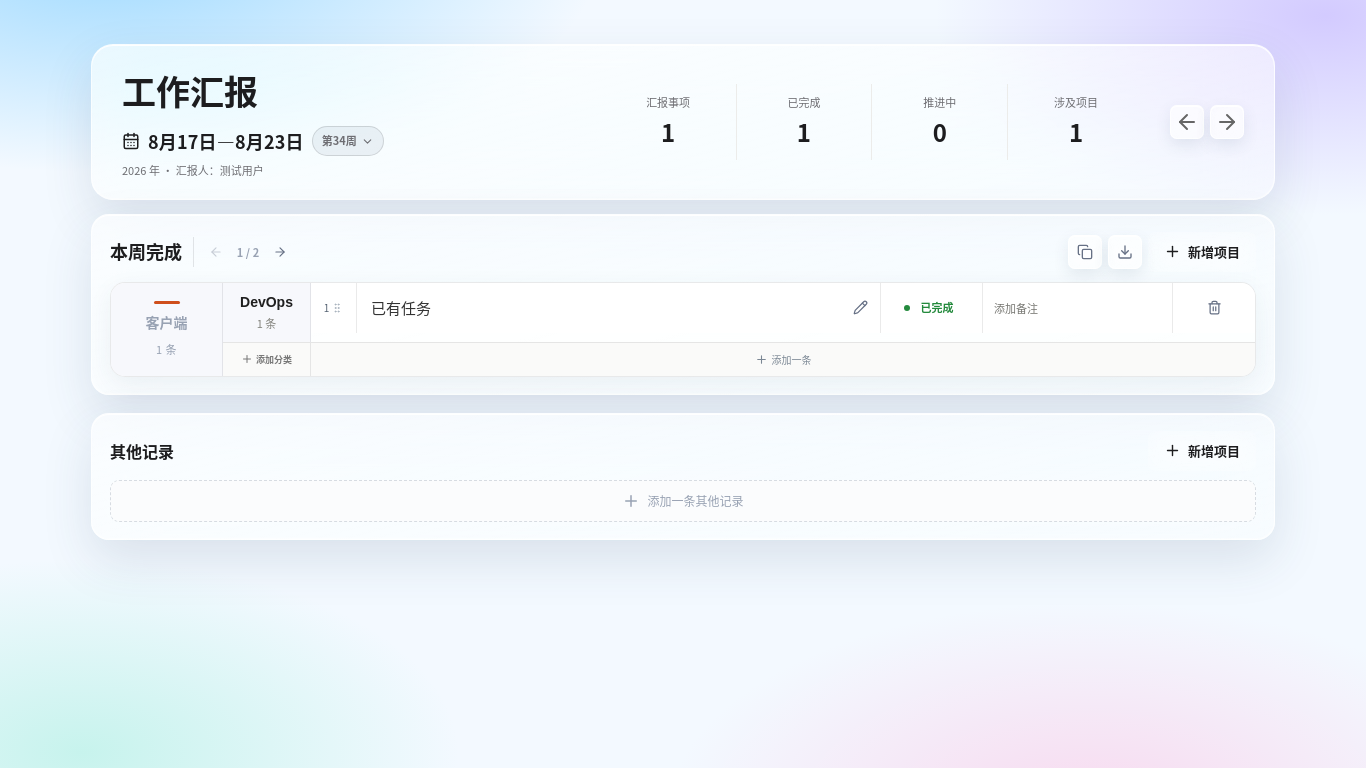
interactive limits and login availability › keeps the picker open on failure and still creates a genuinely new category
Click the button "添加分类" at (266,359), box x1=223 y1=343 x2=310 y2=376
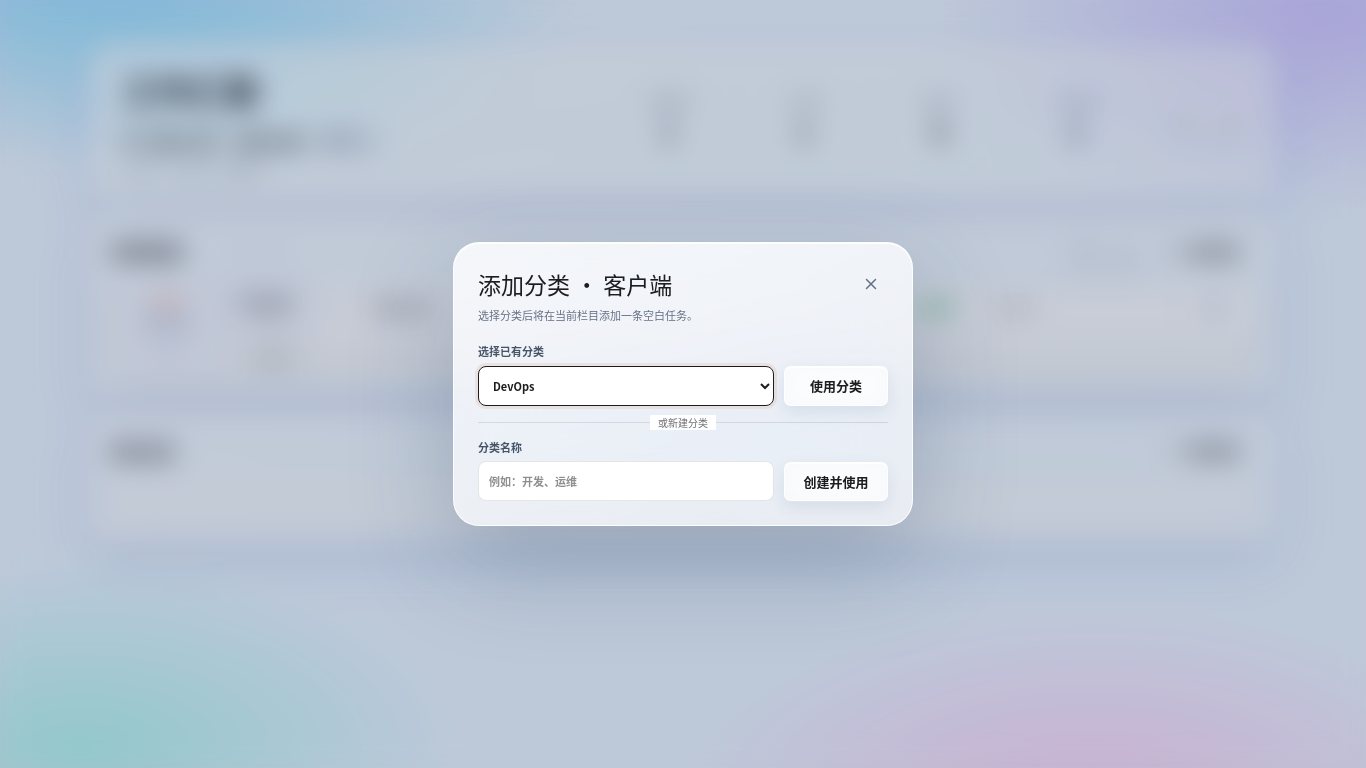
Select "运维" in the dropdown labelled "选择已有分类" at (626,386), box x1=478 y1=366 x2=774 y2=406
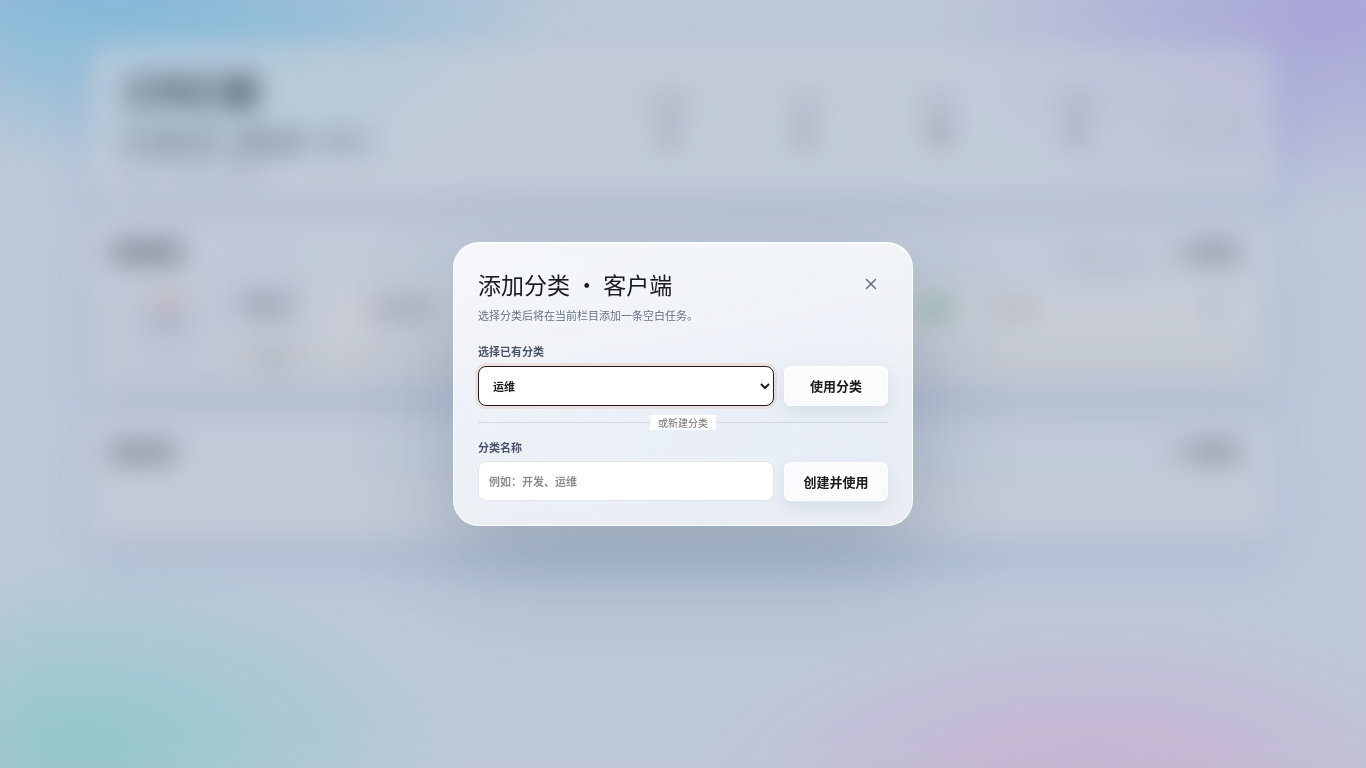
Click the button "使用分类" at (836,386), box x1=784 y1=366 x2=888 y2=406
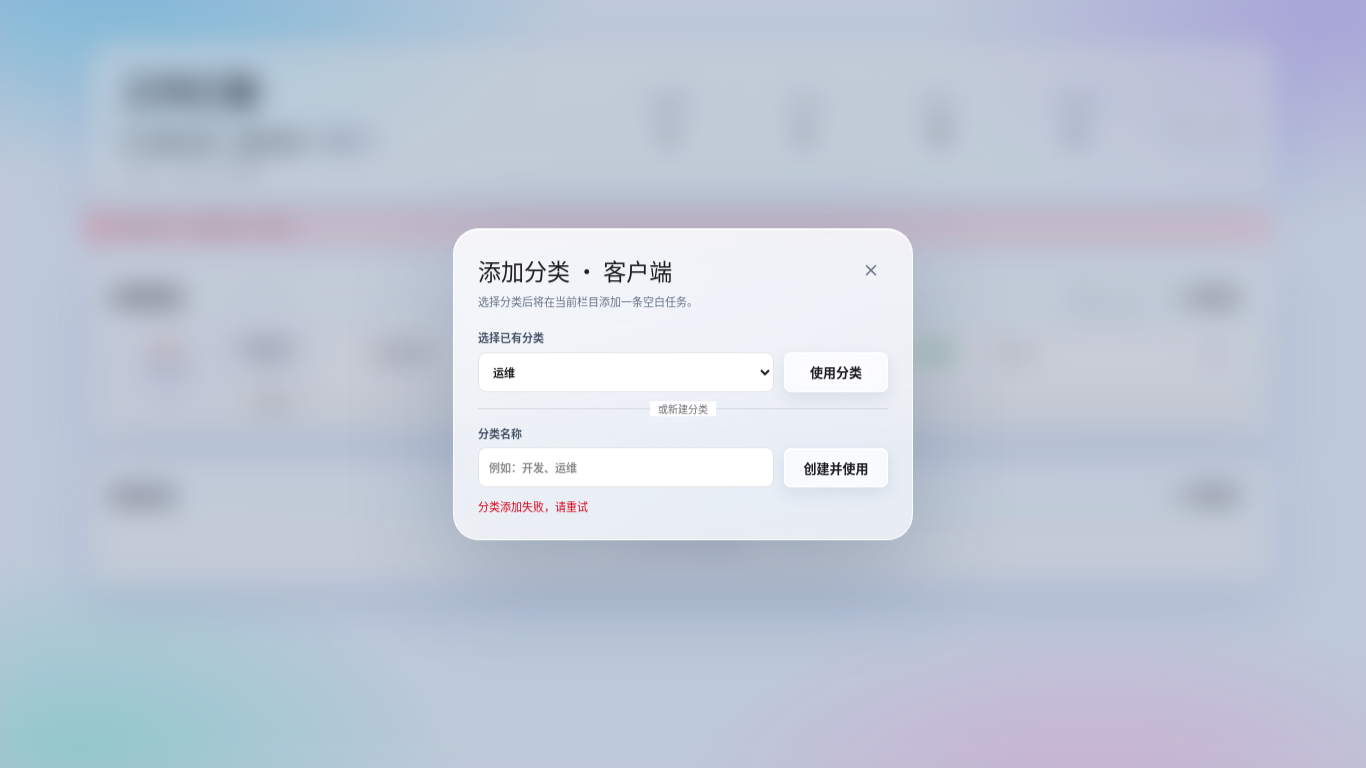
Expected: the dialog "添加分类 · 客户端" is shown, x1=453 y1=228 x2=913 y2=540
Expected: the message reads "分类添加失败，请重试", x1=478 y1=498 x2=588 y2=514
Type "客户支持" into the field labelled "分类名称" at (626,467), box x1=478 y1=447 x2=774 y2=487
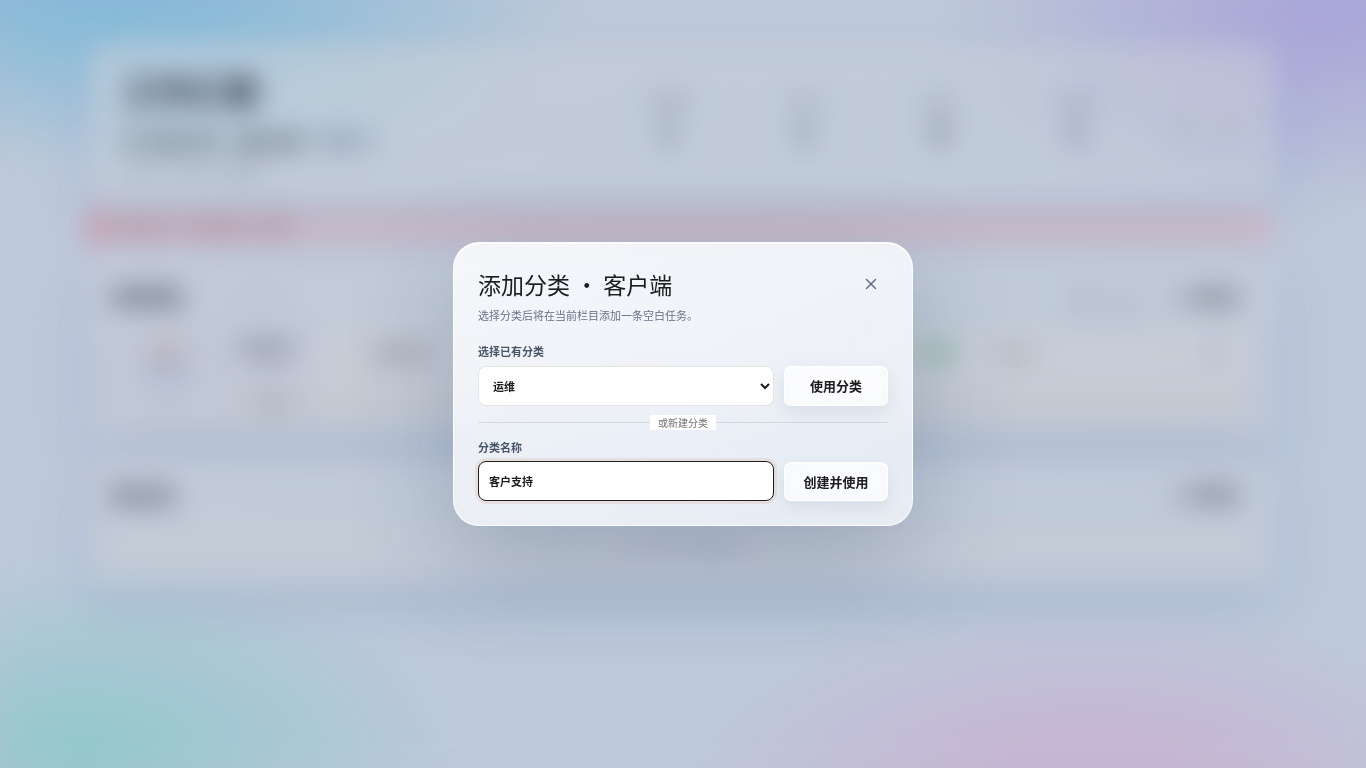
Click the button "创建并使用" at (836,481), box x1=784 y1=462 x2=888 y2=501
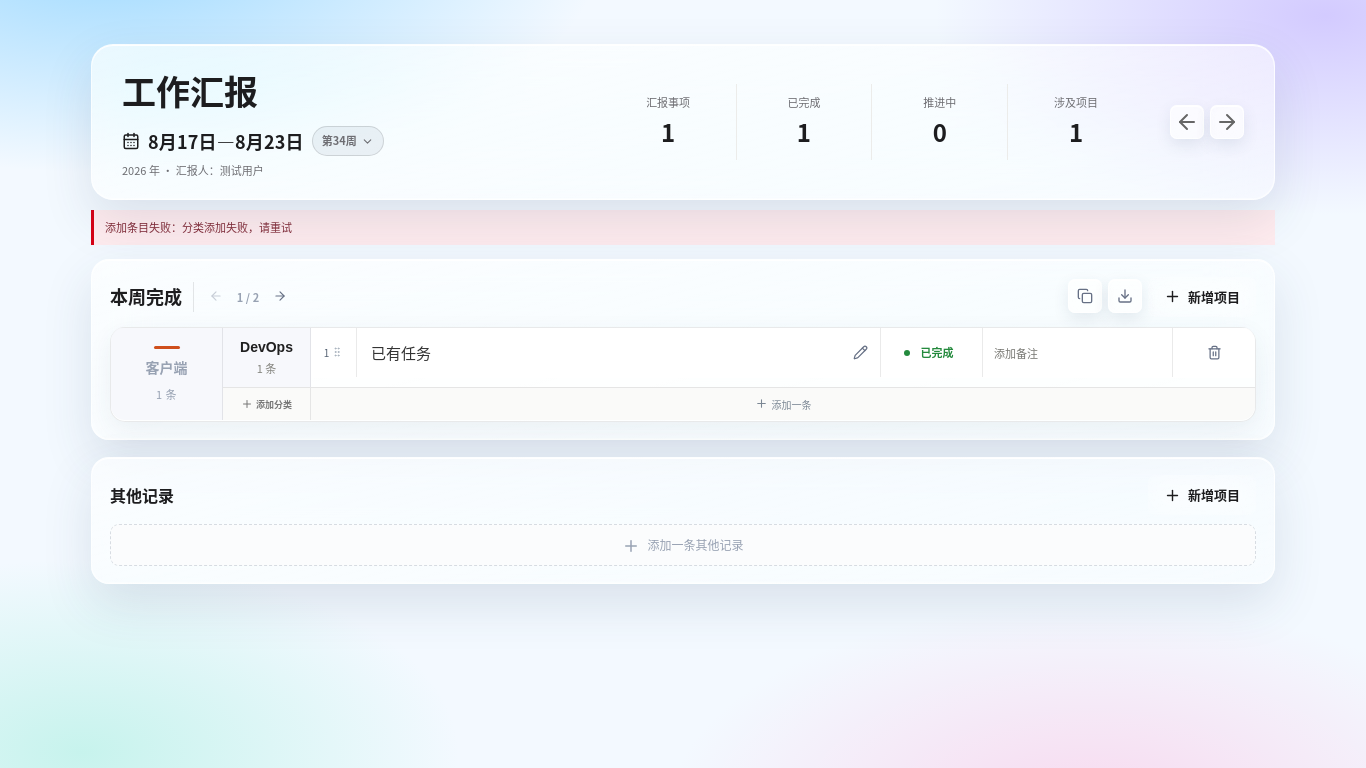
Expected: the heading "添加分类 · 客户端" is gone
